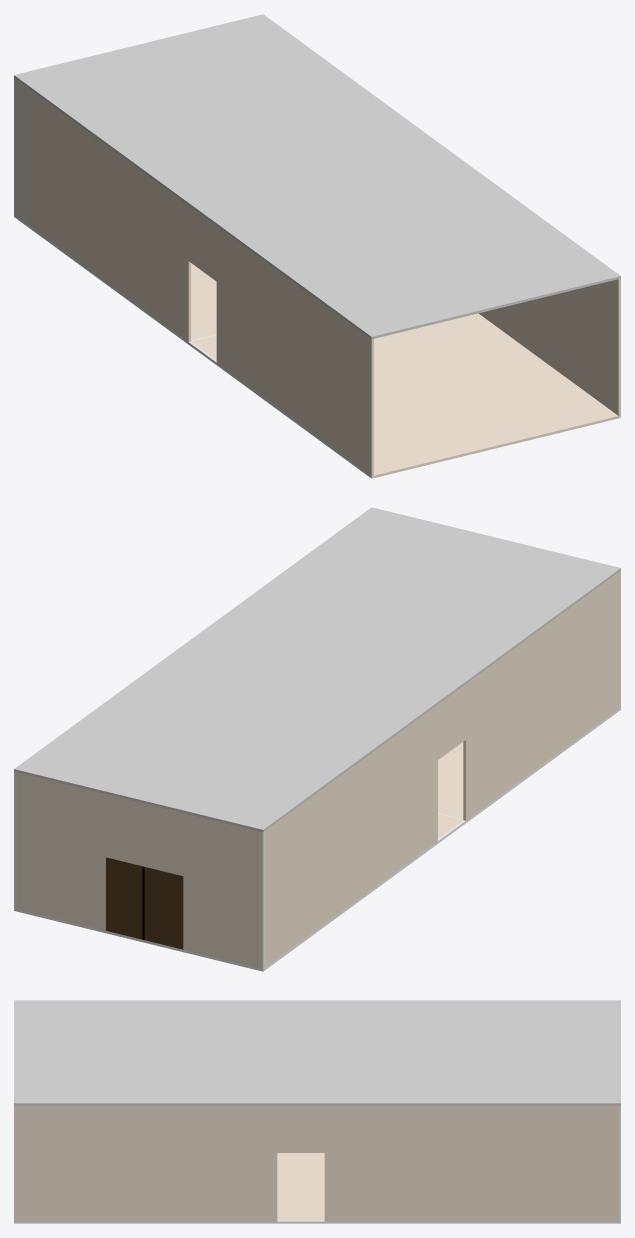
The model's file is corredor montadinho-9.obj.
3 renders of one model, top to bottom at view 1: azimuth 30°, elevation 25°; view 2: azimuth 150°, elevation 25°; view 3: azimuth 270°, elevation 25°, orthographic. The views are drawn at different scales.
Size of the model in its own units: 10.3 by 5.6 by 25.6.
Materials: 1 (1 with a texture image).
